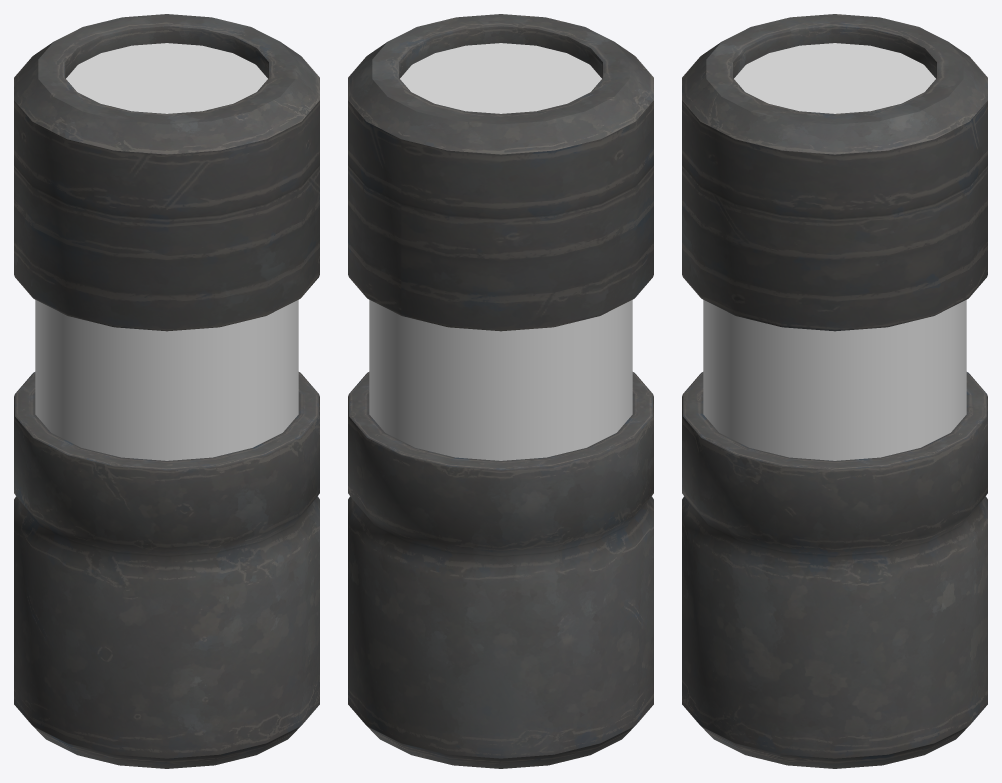
The model's file is Trap_01.fbx.
3 renders of one model, left to right at view 1: azimuth 30°, elevation 25°; view 2: azimuth 150°, elevation 25°; view 3: azimuth 270°, elevation 25°, orthographic.
Parts seen in each view (by area): view 1: Cylinder007; view 2: Cylinder007; view 3: Cylinder007.
Boxes of the visible parts, x1,y1,x2,y2 form: Cylinder007: (14, 14, 319, 768); Cylinder007: (348, 14, 653, 768); Cylinder007: (682, 14, 987, 768).
Size of the model in its own units: 86.7 by 200 by 85.38.
